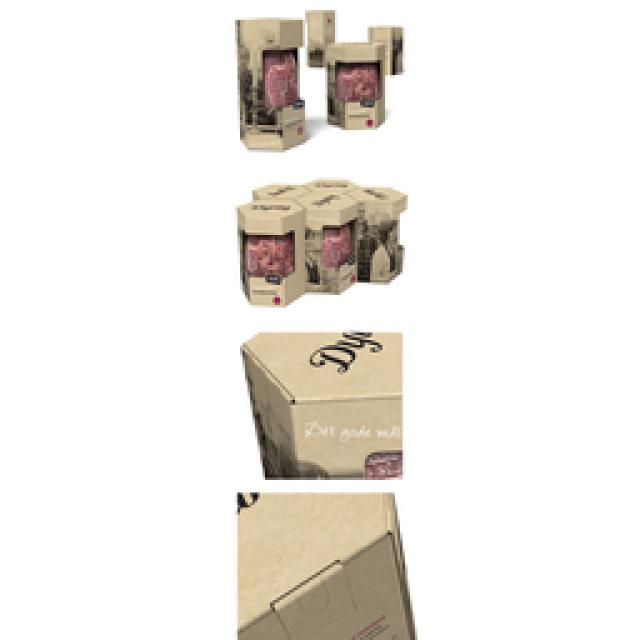cardboard: (238, 494, 415, 640), (242, 332, 402, 478), (238, 178, 409, 306), (304, 10, 386, 128), (239, 20, 306, 151), (367, 25, 405, 76)
